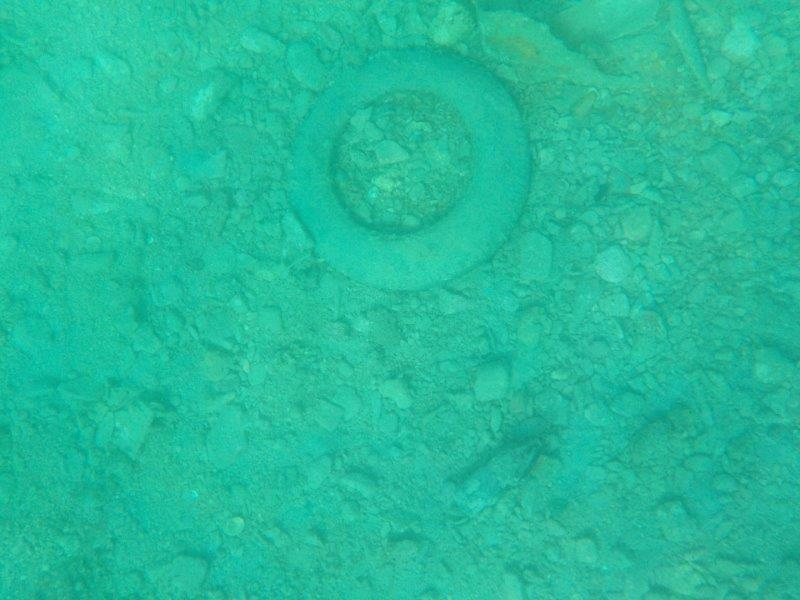bottle: (450, 432, 550, 514)
tire: (280, 44, 536, 295)
